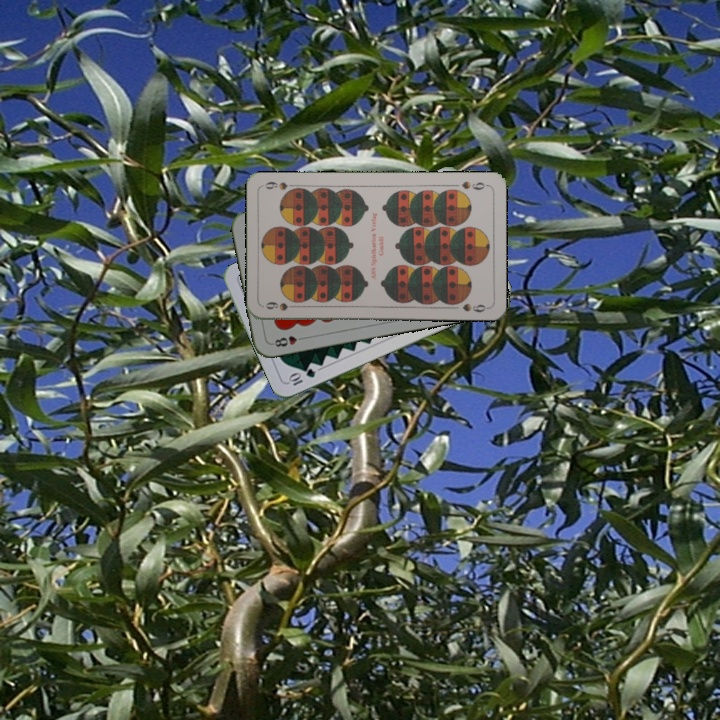G10: (285, 364, 318, 388)
H8: (268, 332, 308, 349)
S9: (262, 297, 302, 313), (457, 177, 490, 192)
